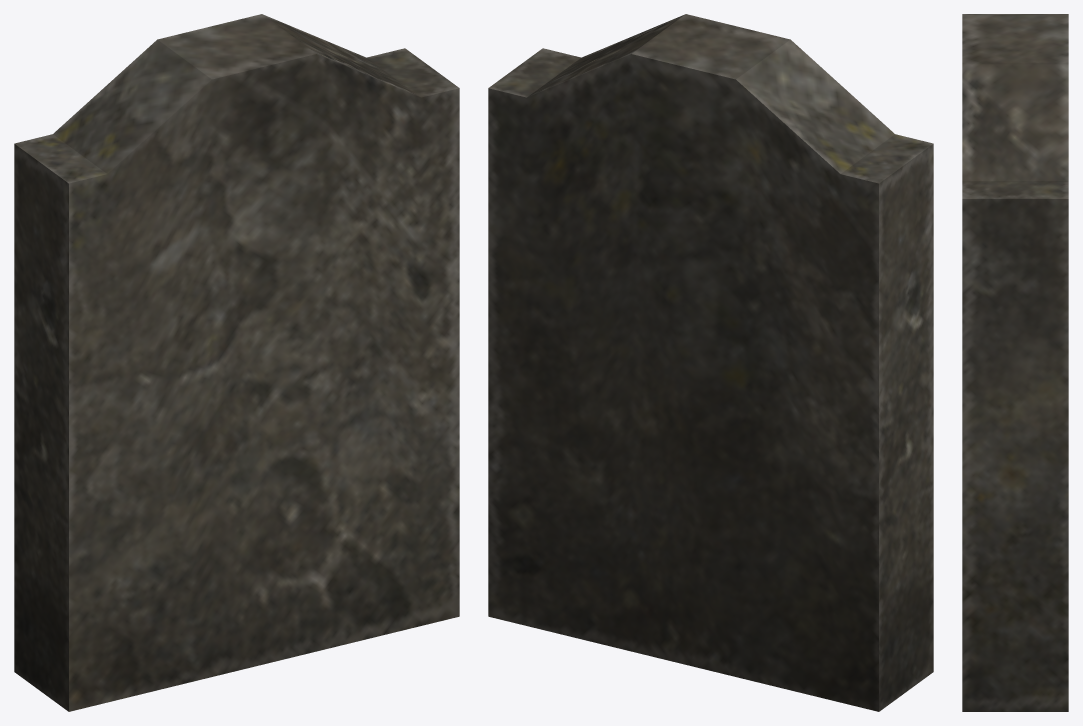
Rendered from Headstone_5.fbx.
The picture shows the model from 3 angles, left to right: view 1: azimuth 30°, elevation 25°; view 2: azimuth 150°, elevation 25°; view 3: azimuth 270°, elevation 25°; orthographic projection. The views are drawn at different scales.
Visible parts, largest first — view 1: Headstone_5; view 2: Headstone_5; view 3: Headstone_5.
Boxes of the visible parts, <box> form: Headstone_5: <box>14,14,459,711</box>; Headstone_5: <box>488,14,933,711</box>; Headstone_5: <box>962,14,1068,711</box>.
Bounding box in the file's own units: 49.67 × 72.56 × 12.03.
